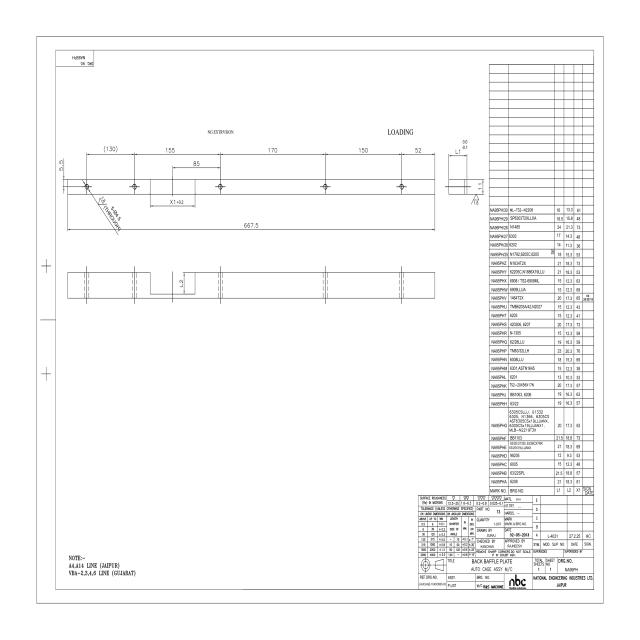dimension: (101, 204, 123, 233), (453, 138, 469, 156), (110, 205, 122, 223), (102, 143, 120, 154), (242, 220, 260, 230), (57, 157, 65, 176), (168, 198, 185, 206), (164, 146, 177, 154), (266, 146, 279, 154), (191, 158, 201, 168), (358, 146, 369, 154), (414, 146, 422, 154), (477, 181, 482, 192), (178, 277, 184, 286)
